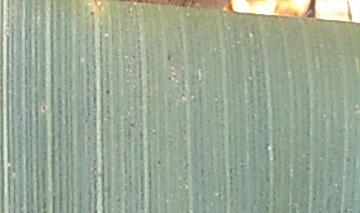tarspot: (101, 86, 114, 98), (87, 8, 99, 19), (154, 158, 166, 169), (40, 102, 50, 114)
